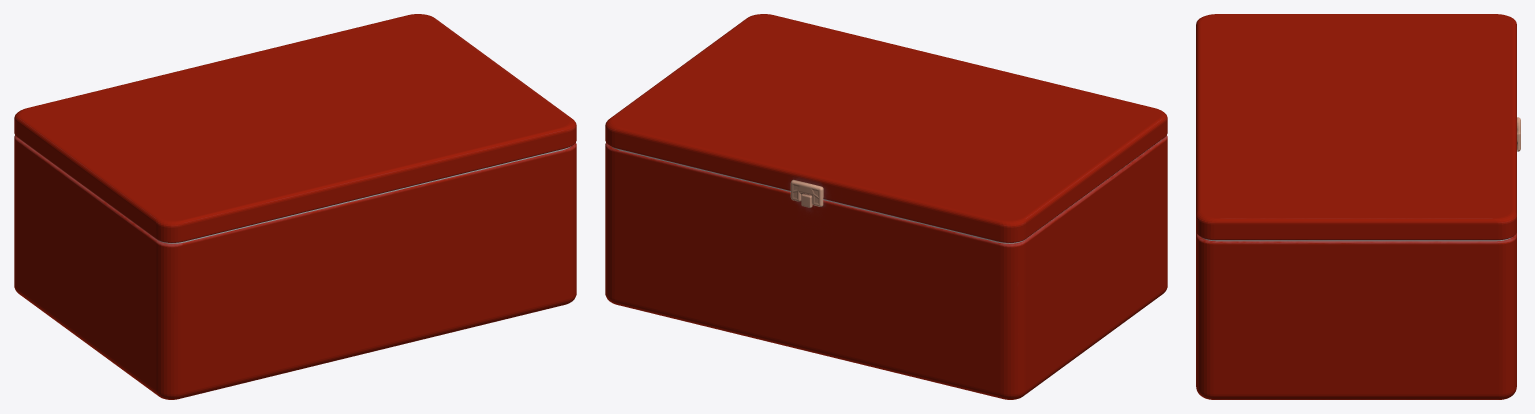
Rendered from cargo 3 fix.fbx.
The picture shows the model from 3 angles, left to right: view 1: azimuth 30°, elevation 25°; view 2: azimuth 150°, elevation 25°; view 3: azimuth 270°, elevation 25°; orthographic projection.
Visible parts, largest first — view 1: crate's; view 2: crate's; view 3: crate's.
Boxes of the visible parts, x1,y1,x2,y2 form: crate's: (14, 14, 576, 399); crate's: (605, 14, 1167, 399); crate's: (1196, 14, 1520, 399).
Bounding box in the file's own units: 157 × 64.36 × 104.
